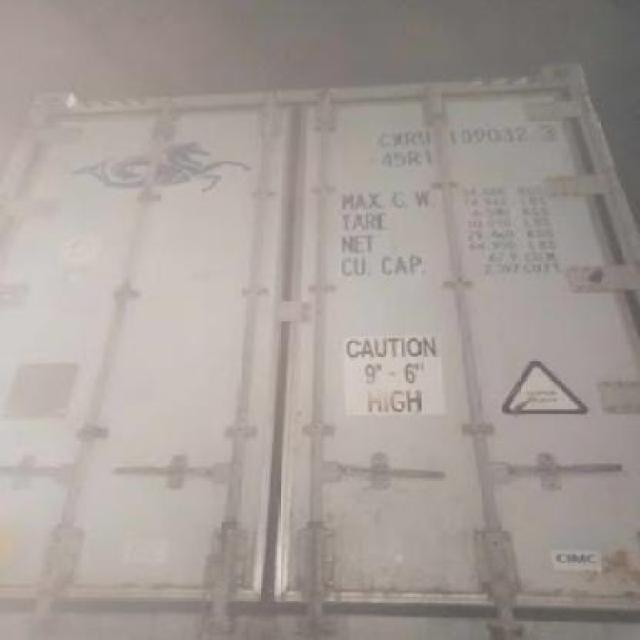ISO: (387, 146, 441, 172)
container_number: (372, 114, 556, 154)
